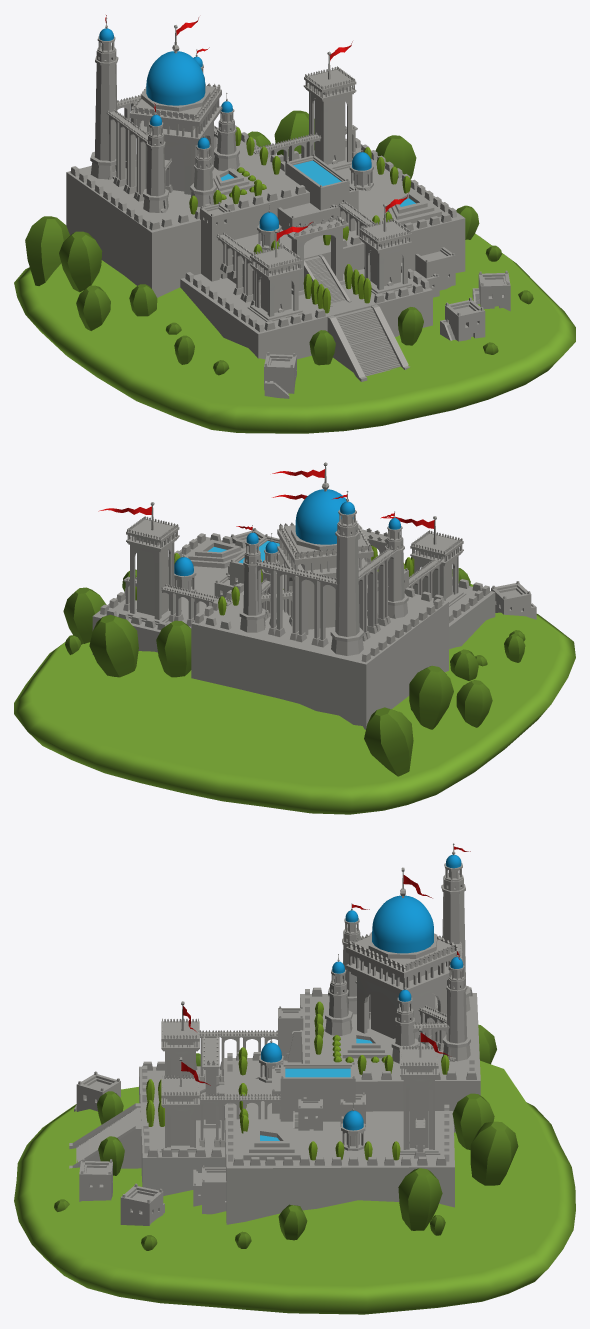
Rendered from castle_on_hills.glb.
3 renders of one model, top to bottom at view 1: azimuth 30°, elevation 25°; view 2: azimuth 150°, elevation 25°; view 3: azimuth 270°, elevation 25°, orthographic. The views are drawn at different scales.
Visible parts, largest first — view 1: polySurface303, polySurface304, polySurface262, polySurface265, polySurface333, polySurface292, polySurface336, polySurface309, polySurface311, polySurface305, pCube105, pCylinder58 (+21 smaller); view 2: polySurface303, polySurface304, polySurface262, polySurface265, polySurface309, polySurface312, polySurface311, pCylinder58, pCylinder4, polySurface292, pCylinder41, polySurface298 (+12 smaller); view 3: polySurface303, polySurface304, polySurface262, pCube105, polySurface265, polySurface336, polySurface305, polySurface333, pCylinder4, polySurface309, pCylinder3, polySurface298 (+17 smaller).
Part boxes in pixels (bbox=[...]): polySurface303: bbox=[14, 233, 575, 433]; polySurface304: bbox=[66, 137, 465, 359]; polySurface262: bbox=[129, 25, 222, 194]; polySurface265: bbox=[303, 66, 356, 170]; polySurface333: bbox=[327, 304, 409, 381]; polySurface292: bbox=[247, 245, 304, 321]; polySurface336: bbox=[359, 218, 413, 294]; polySurface309: bbox=[90, 17, 118, 179]; polySurface311: bbox=[106, 109, 148, 201]; polySurface305: bbox=[190, 93, 240, 207]; pCube105: bbox=[285, 154, 349, 220]; pCylinder58: bbox=[25, 216, 69, 285]; polySurface303: bbox=[14, 584, 575, 814]; polySurface304: bbox=[92, 537, 495, 729]; polySurface262: bbox=[277, 462, 373, 634]; polySurface265: bbox=[126, 516, 181, 625]; polySurface309: bbox=[330, 491, 364, 655]; polySurface312: bbox=[256, 560, 337, 647]; polySurface311: bbox=[358, 547, 397, 641]; pCylinder58: bbox=[364, 707, 413, 776]; pCylinder4: bbox=[89, 614, 138, 677]; polySurface292: bbox=[410, 530, 466, 606]; pCylinder41: bbox=[409, 665, 453, 729]; polySurface298: bbox=[239, 525, 265, 632]; polySurface303: bbox=[14, 1060, 575, 1314]; polySurface304: bbox=[139, 993, 480, 1224]; polySurface262: bbox=[345, 867, 460, 1039]; pCube105: bbox=[280, 1062, 355, 1121]; polySurface265: bbox=[398, 1046, 440, 1154]; polySurface336: bbox=[159, 1075, 201, 1152]; polySurface305: bbox=[323, 954, 418, 1063]; polySurface333: bbox=[69, 1103, 141, 1168]; pCylinder4: bbox=[470, 1121, 518, 1185]; polySurface309: bbox=[435, 843, 470, 1011]; pCylinder3: bbox=[398, 1168, 442, 1230]; polySurface298: bbox=[442, 949, 470, 1061].
Bounding box in the file's own units: 9.8 × 6.3 × 10.54.
